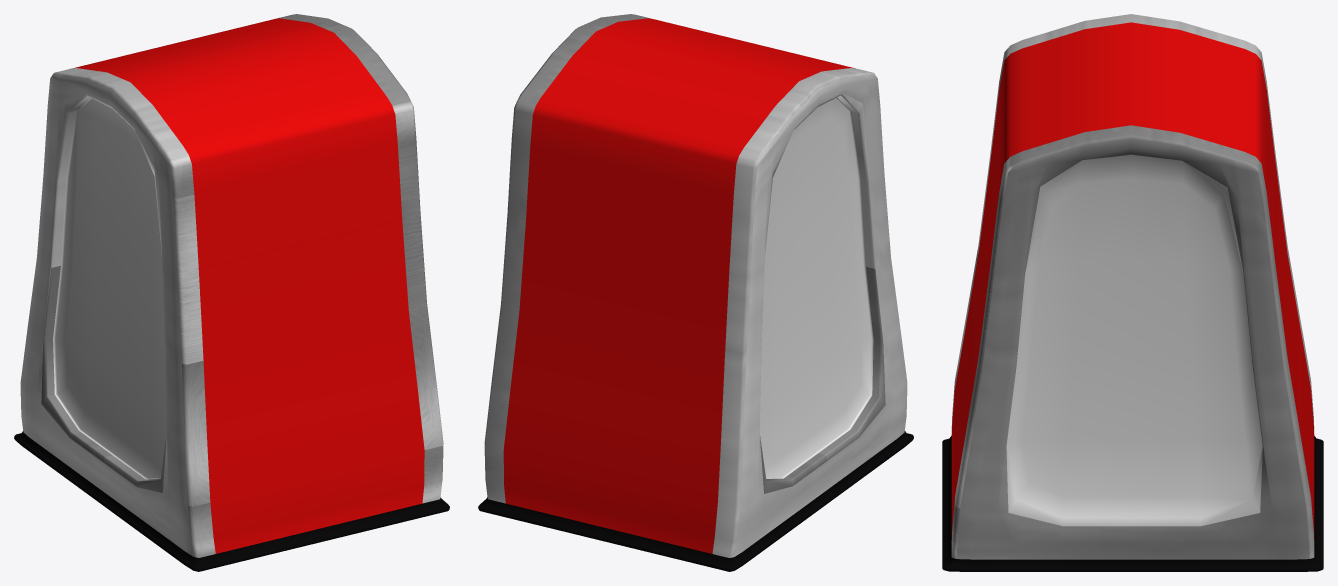
Rendered from servilletero 1.fbx.
3 views of the same model, side by side, from view 1: azimuth 30°, elevation 25°; view 2: azimuth 150°, elevation 25°; view 3: azimuth 270°, elevation 25° (orthographic). The views are drawn at different scales.
Parts seen in each view (by area): view 1: pCube1; view 2: pCube1; view 3: pCube1.
Part boxes in pixels (x1,y1,x2,y2): pCube1: [14, 14, 449, 571]; pCube1: [478, 14, 913, 571]; pCube1: [942, 14, 1323, 571].
Size of the model in its own units: 1.06 by 1.63 by 1.3.
